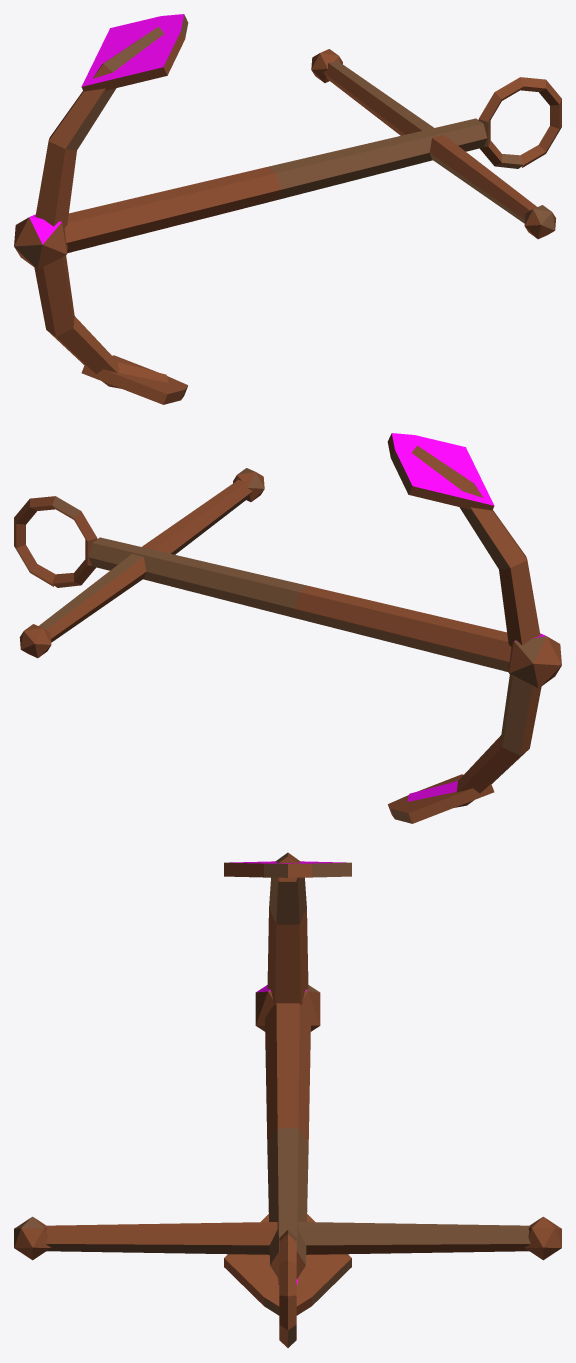
Rendered from prop_anchor.glb.
3 renders of one model, top to bottom at view 1: azimuth 30°, elevation 25°; view 2: azimuth 150°, elevation 25°; view 3: azimuth 270°, elevation 25°, orthographic. The views are drawn at different scales.
Parts seen in each view (by area): view 1: prop_anchor__mesh; view 2: prop_anchor__mesh; view 3: prop_anchor__mesh.
Part boxes in pixels (x1,y1,x2,y2): prop_anchor__mesh: [14, 14, 561, 404]; prop_anchor__mesh: [14, 433, 561, 823]; prop_anchor__mesh: [14, 852, 561, 1347].
Bounding box in the file's own units: 1.9 × 1.27 × 1.37.
1 material, 1 textured.
